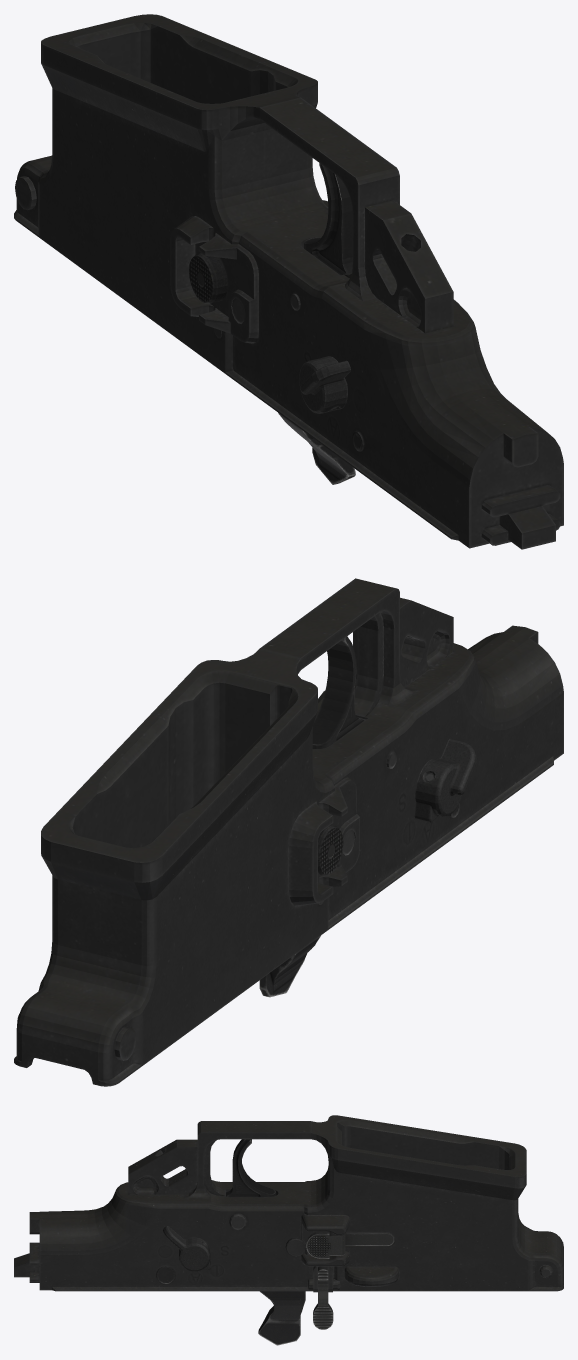
3 renders of one model, top to bottom at view 1: azimuth 30°, elevation 25°; view 2: azimuth 150°, elevation 25°; view 3: azimuth 270°, elevation 25°, orthographic. The views are drawn at different scales.
Visible parts, largest first — view 1: TW_6183afd850224f204c1da514_PZ_Import; view 2: TW_6183afd850224f204c1da514_PZ_Import; view 3: TW_6183afd850224f204c1da514_PZ_Import.
Part boxes in pixels (bbox=[...]): TW_6183afd850224f204c1da514_PZ_Import: bbox=[14, 14, 563, 549]; TW_6183afd850224f204c1da514_PZ_Import: bbox=[14, 578, 563, 1086]; TW_6183afd850224f204c1da514_PZ_Import: bbox=[14, 1115, 563, 1345].
Bounding box in the file's own units: 0.0295 × 0.1468 × 0.062.
1 material, 1 textured.
